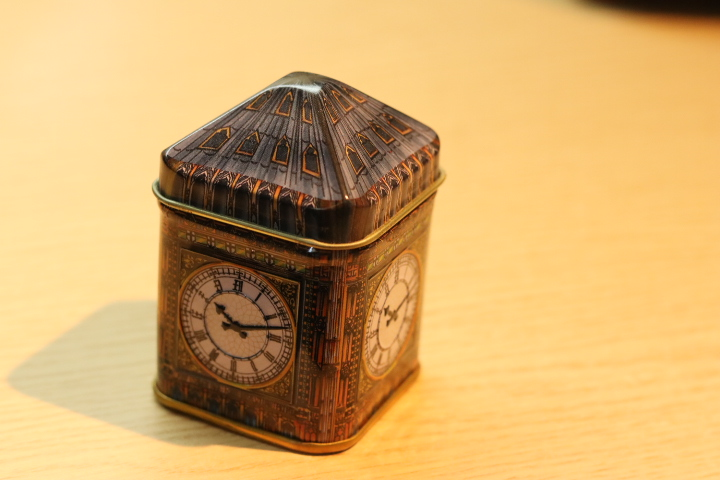Big Ben: (122, 48, 458, 464)
